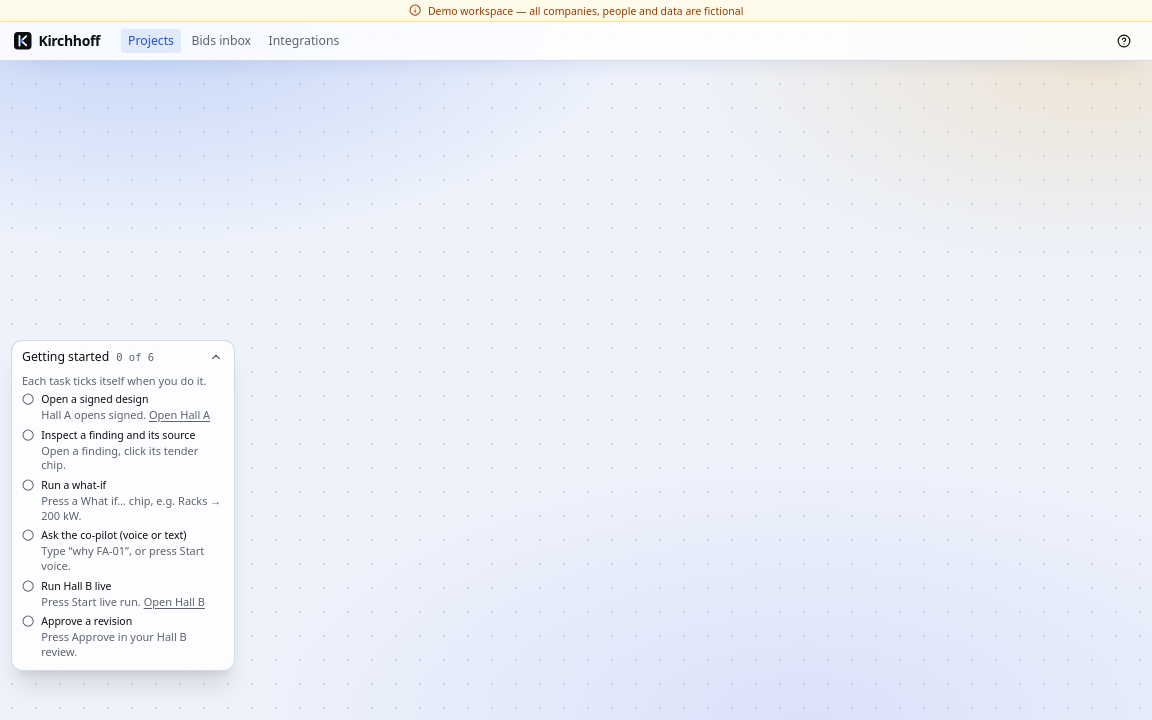
Test: reset on a 409 (run_in_progress) keeps local storage and shows an icon with the message
Type keys "?"
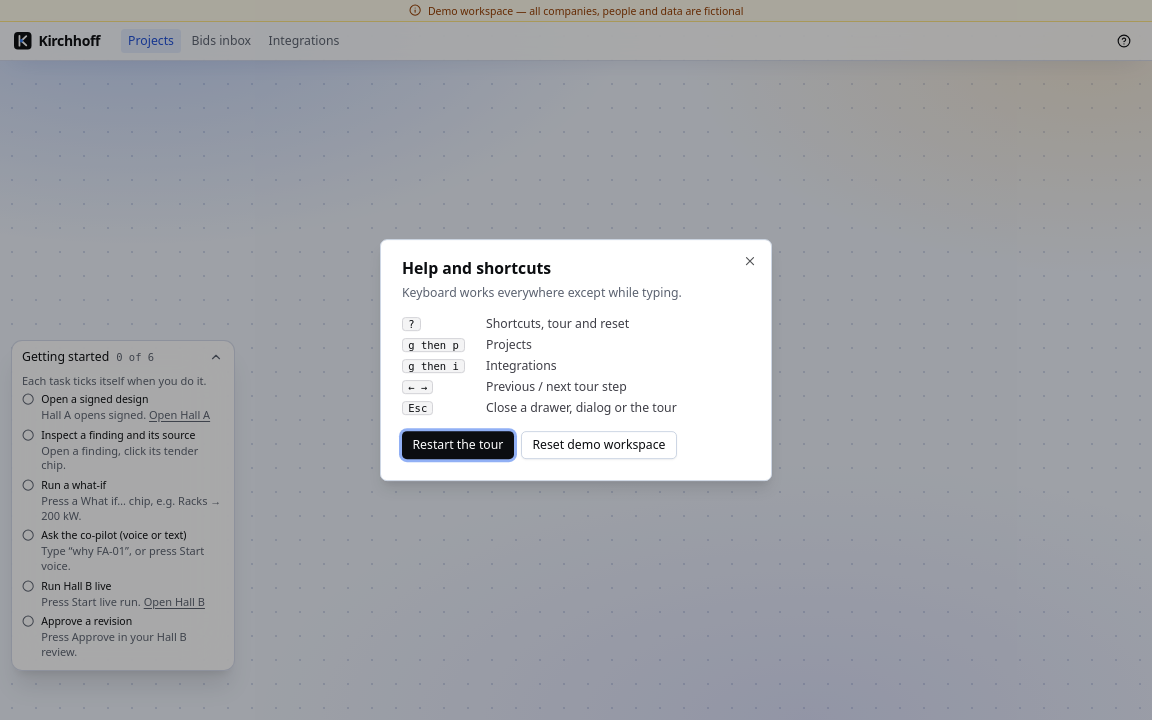
Click the button "Reset demo workspace".
click(599, 445)  # box [521, 431, 677, 459]
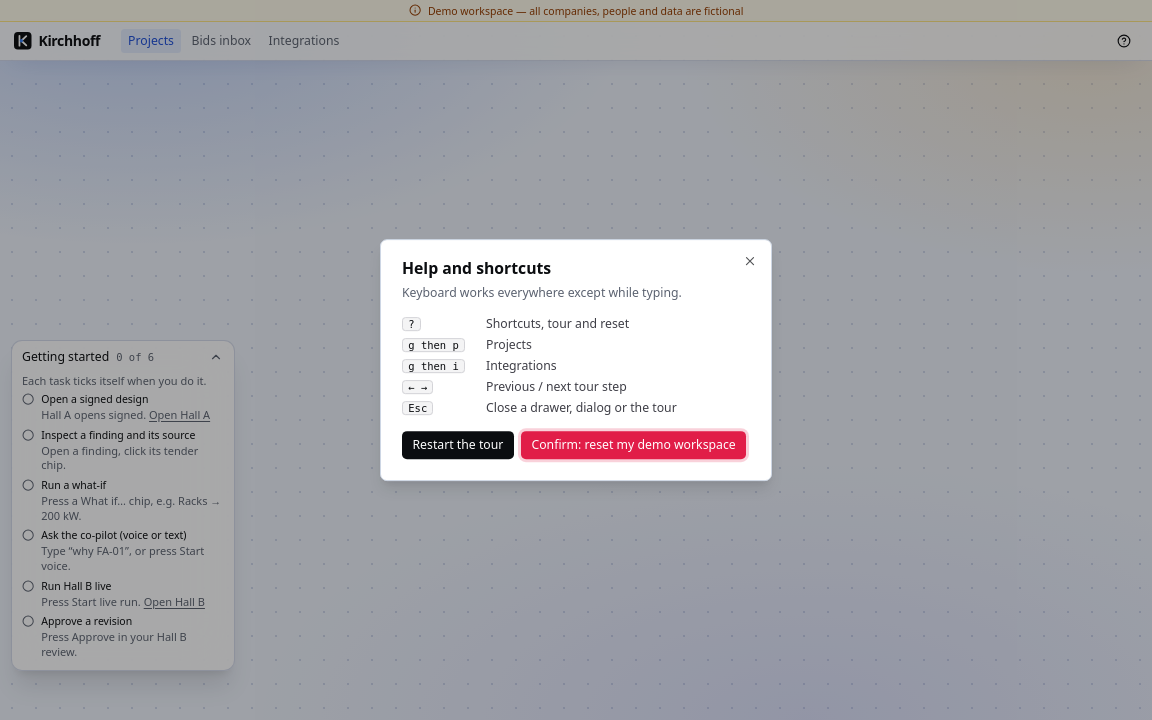
Click the button "Confirm: reset my demo workspace".
click(634, 445)  # box [521, 431, 746, 459]
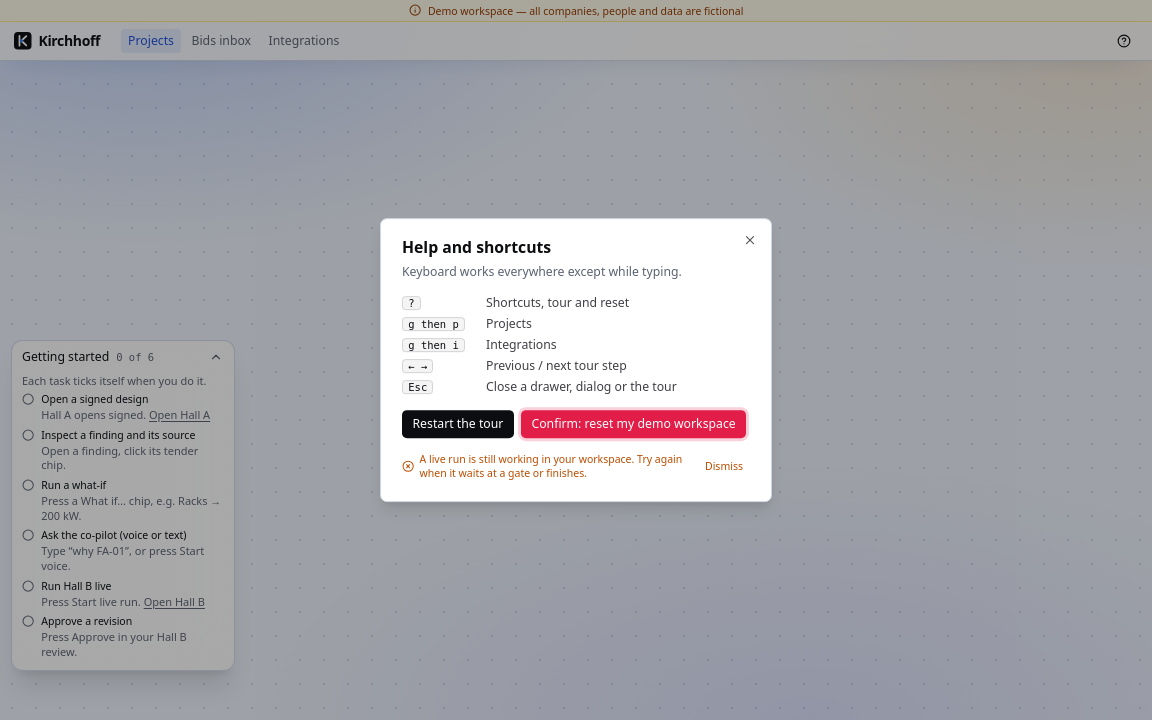
Expected: the 2nd icon is shown, [402, 460, 414, 472]
